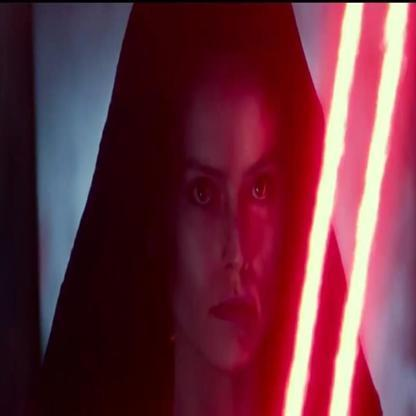sith_lightsaber: (277, 2, 370, 415), (327, 3, 413, 415)
